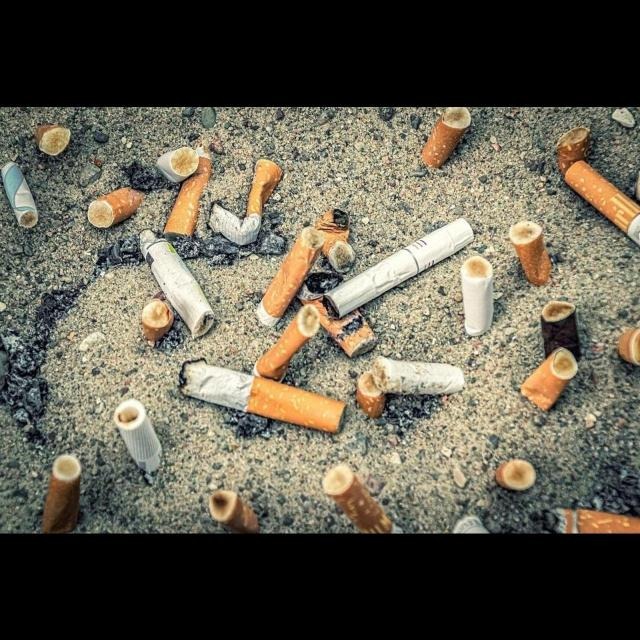cigarette: (321, 218, 474, 319), (178, 359, 347, 434), (140, 229, 215, 339), (256, 227, 325, 326), (298, 272, 377, 358), (565, 160, 640, 246), (208, 159, 282, 246), (323, 466, 403, 533), (253, 304, 321, 382), (164, 146, 211, 236), (114, 398, 162, 478), (521, 347, 578, 410), (373, 356, 465, 394), (41, 454, 81, 533), (421, 106, 471, 168), (510, 220, 552, 285), (315, 208, 355, 274), (461, 255, 493, 336), (540, 300, 581, 362), (2, 160, 39, 228), (87, 186, 145, 228), (544, 508, 640, 533), (209, 488, 259, 533), (557, 127, 590, 176), (155, 146, 199, 182), (495, 458, 537, 491), (141, 298, 174, 340), (357, 373, 386, 419), (35, 124, 71, 155), (617, 326, 640, 365), (453, 513, 491, 533)
